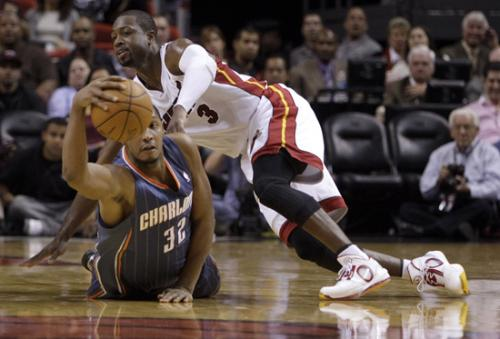10+: (1, 1, 500, 318)
down: (112, 7, 473, 302), (50, 81, 224, 306)
